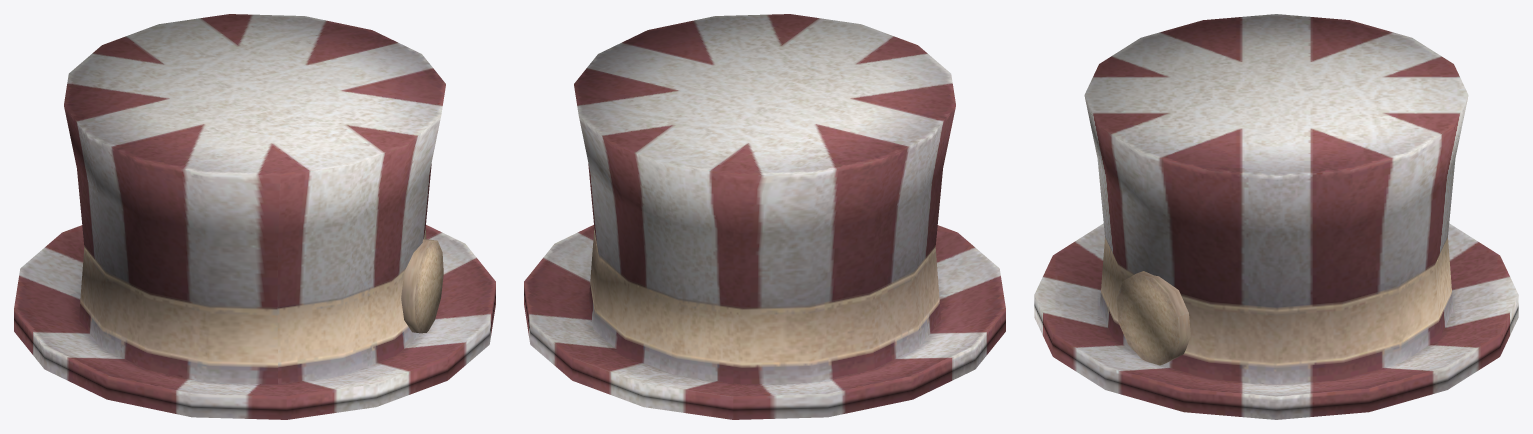
Rendered from M_MinihatA_2.glb.
The picture shows the model from 3 angles, left to right: view 1: azimuth 30°, elevation 25°; view 2: azimuth 150°, elevation 25°; view 3: azimuth 270°, elevation 25°; orthographic projection.
Parts seen in each view (by area): view 1: SM_MinihatA; view 2: SM_MinihatA; view 3: SM_MinihatA.
Part boxes in pixels (x1,y1,x2,y2): SM_MinihatA: [14, 14, 495, 419]; SM_MinihatA: [524, 14, 1005, 419]; SM_MinihatA: [1034, 14, 1518, 419].
Bounding box in the file's own units: 0.4534 × 0.2426 × 0.4534.
Materials: 1 (1 with a texture image).
